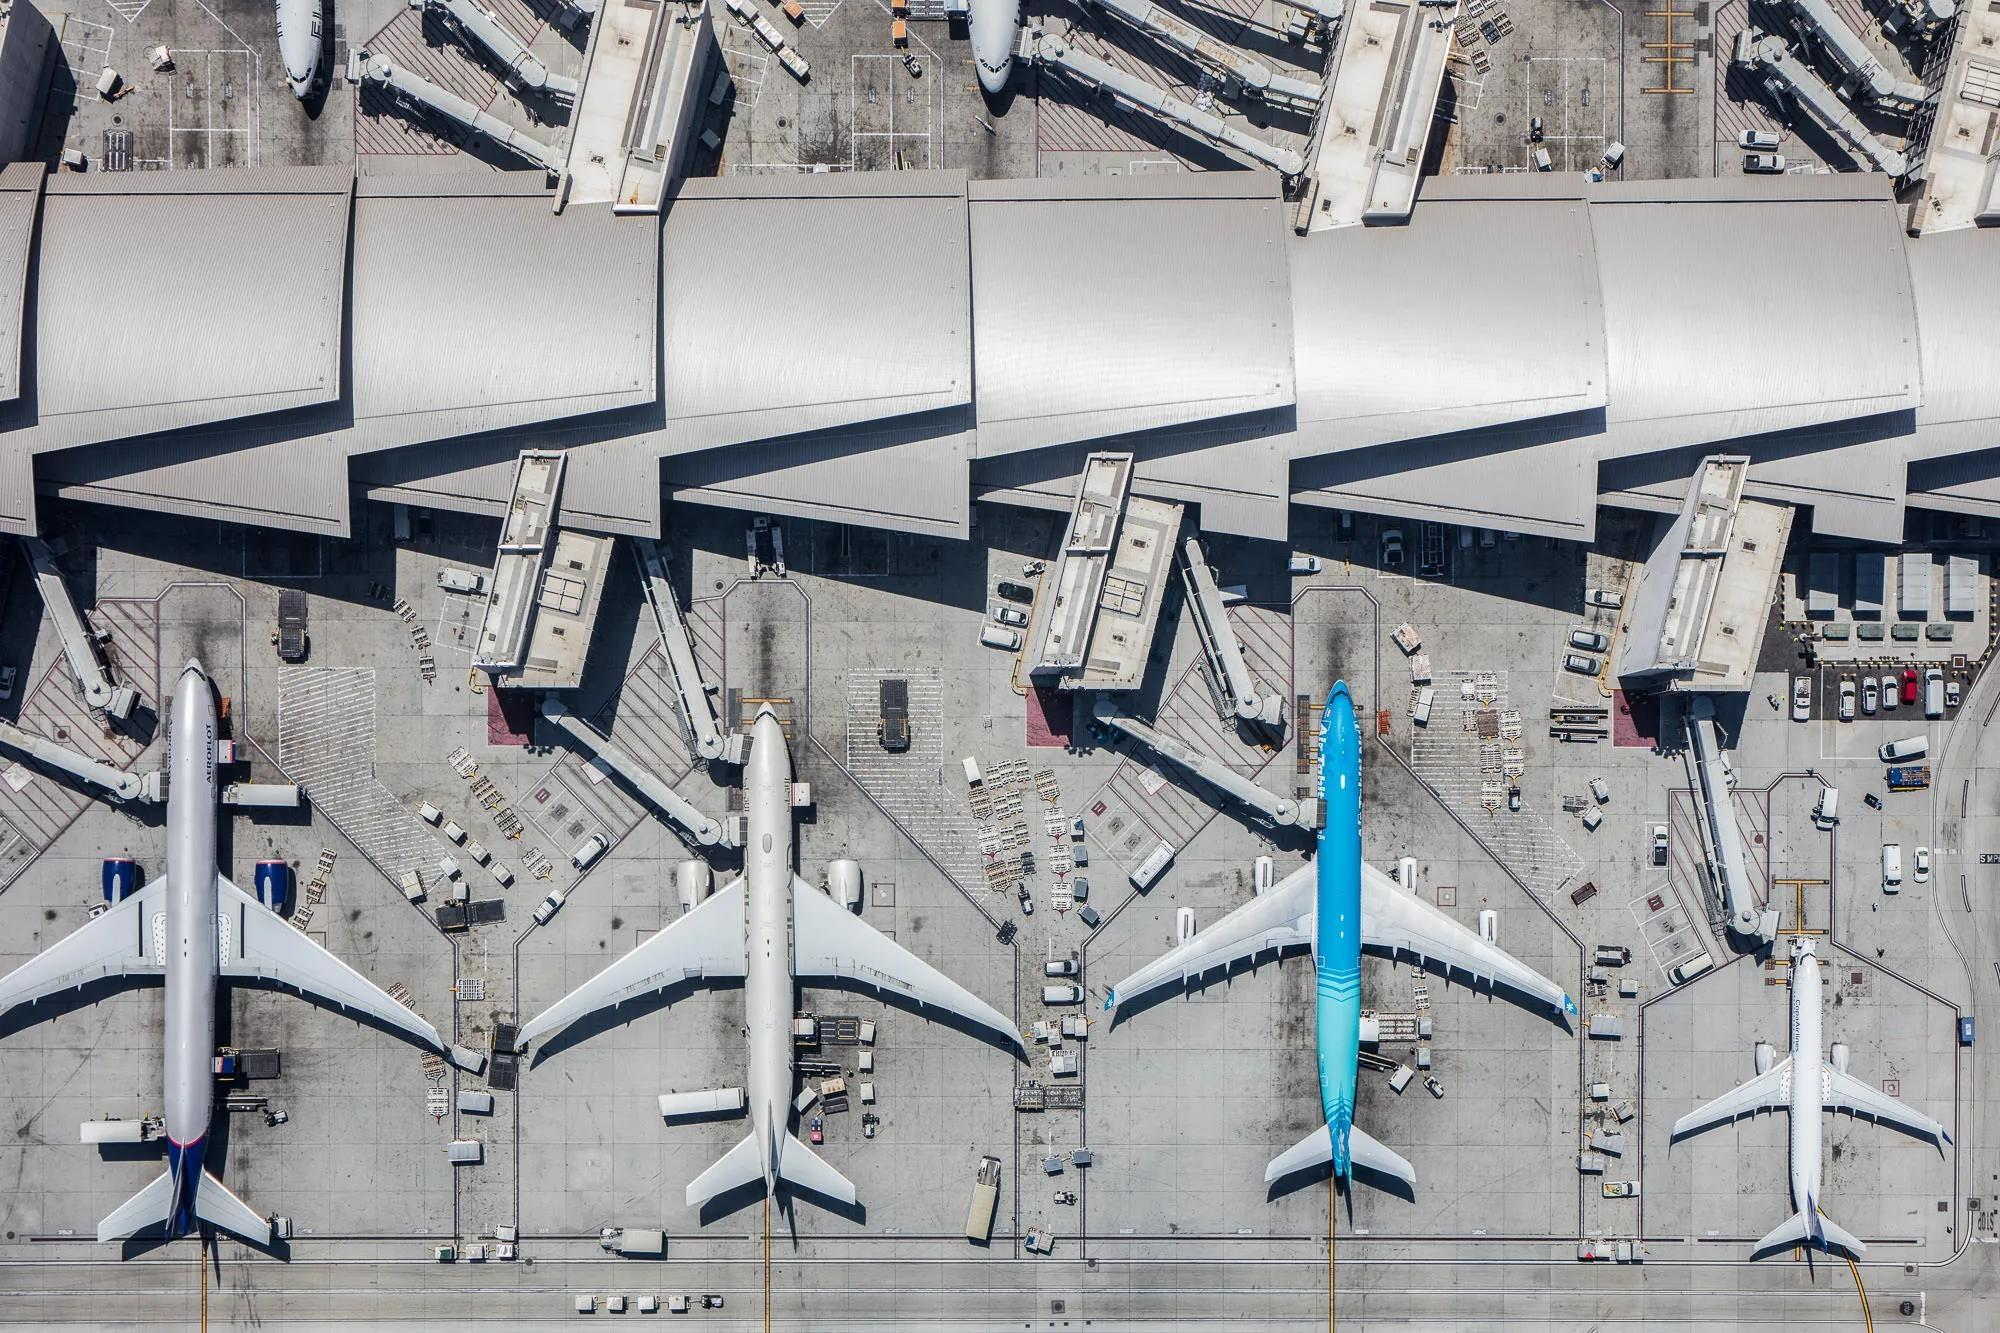Airplane: (0, 652, 451, 1254), (509, 696, 1029, 1212), (1100, 672, 1581, 1201), (1662, 936, 1957, 1260)
Car: (561, 829, 614, 878), (1664, 948, 1717, 989), (526, 885, 571, 931), (1877, 730, 1932, 763), (975, 623, 1025, 655), (1813, 783, 1842, 833), (1790, 672, 1814, 726), (1881, 841, 1903, 894), (1566, 628, 1610, 655), (993, 580, 1036, 607), (1039, 982, 1087, 1006), (1581, 588, 1625, 611), (1924, 668, 1945, 719), (1560, 653, 1603, 677), (1740, 153, 1787, 174), (990, 606, 1032, 629), (1600, 1178, 1643, 1201), (1735, 128, 1781, 149), (1836, 678, 1857, 722), (1859, 674, 1880, 716), (1651, 823, 1670, 867), (1280, 555, 1323, 574), (1042, 958, 1080, 979), (1912, 845, 1930, 887), (1900, 669, 1920, 707), (1881, 672, 1899, 710)
